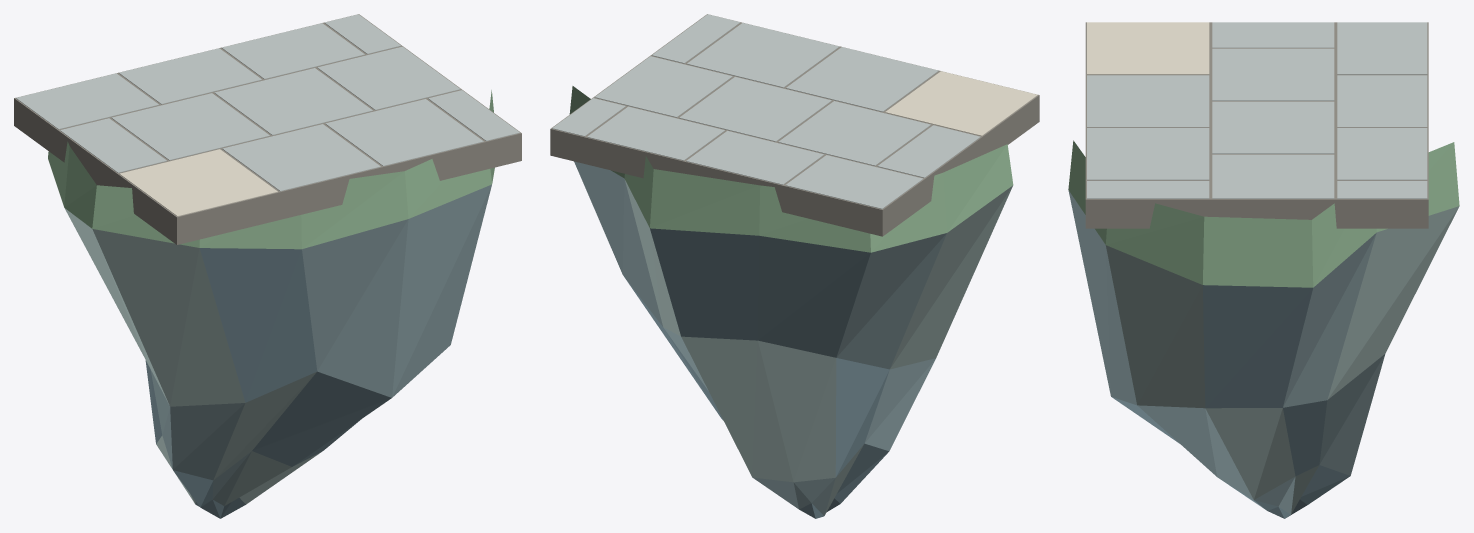
The model's file is FloatingIsland26.glb.
3 views of the same model, side by side, from view 1: azimuth 30°, elevation 25°; view 2: azimuth 150°, elevation 25°; view 3: azimuth 270°, elevation 25° (orthographic). The views are drawn at different scales.
Visible parts, largest first — view 1: FloatingIsland26; view 2: FloatingIsland26; view 3: FloatingIsland26.
Boxes of the visible parts, box(x1,y1,x2,y2) form: FloatingIsland26: box(14, 14, 521, 518); FloatingIsland26: box(550, 14, 1039, 518); FloatingIsland26: box(1068, 22, 1459, 518).
Bounding box in the file's own units: 4.2 × 3.95 × 3.28.
